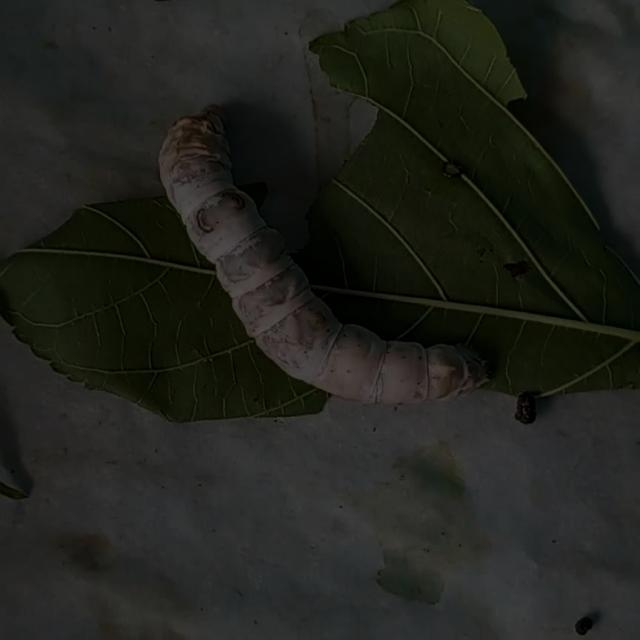Grasserie: (151, 92, 494, 428)
